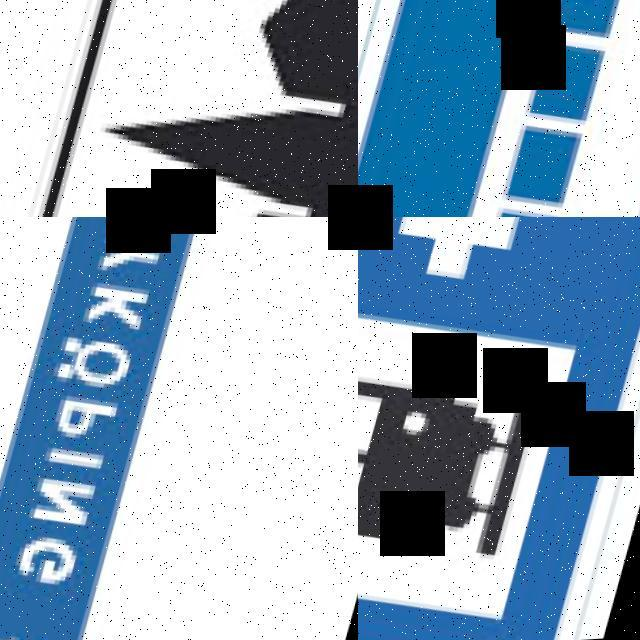127: (0, 0, 358, 217)
173: (0, 217, 208, 640)
60: (358, 217, 640, 640)
Bus stop: (358, 0, 640, 217)
